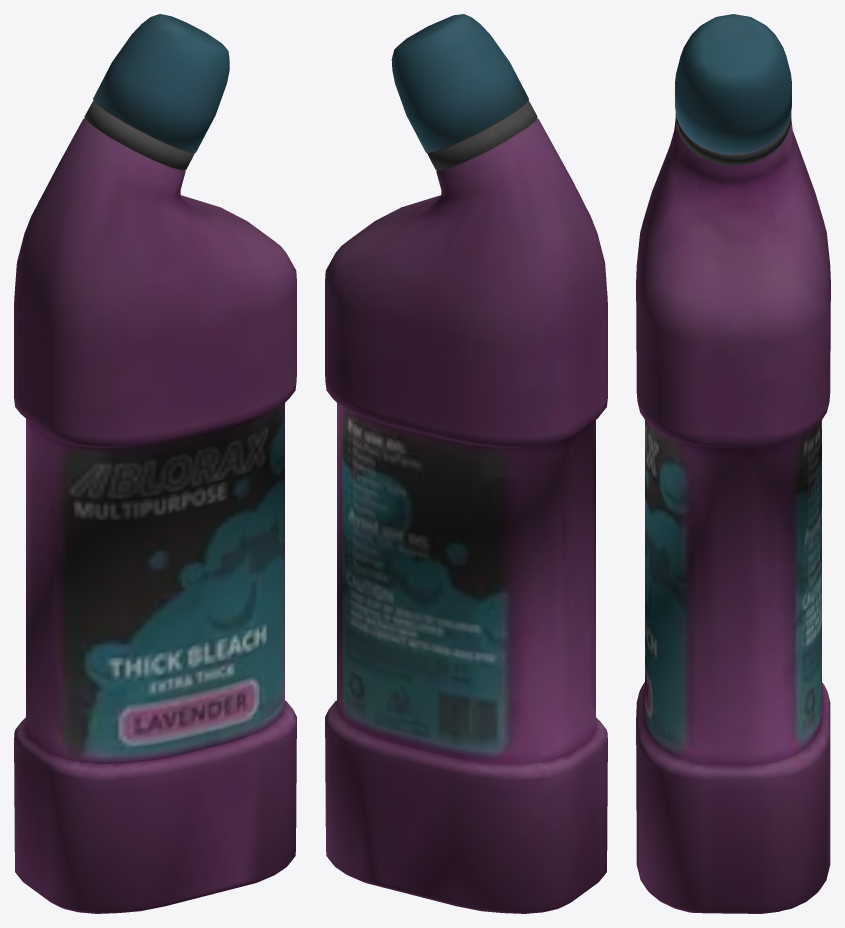
Rendered from bleach.glb.
3 views of the same model, side by side, from view 1: azimuth 30°, elevation 25°; view 2: azimuth 150°, elevation 25°; view 3: azimuth 270°, elevation 25° (orthographic).
Parts seen in each view (by area): view 1: bleach_bottle; view 2: bleach_bottle; view 3: bleach_bottle.
Boxes of the visible parts, x1,y1,x2,y2 form: bleach_bottle: [14, 14, 296, 913]; bleach_bottle: [325, 14, 607, 913]; bleach_bottle: [636, 14, 830, 913].
Bounding box in the file's own units: 0.0884 × 0.2936 × 0.0612.
1 material, 1 textured.
